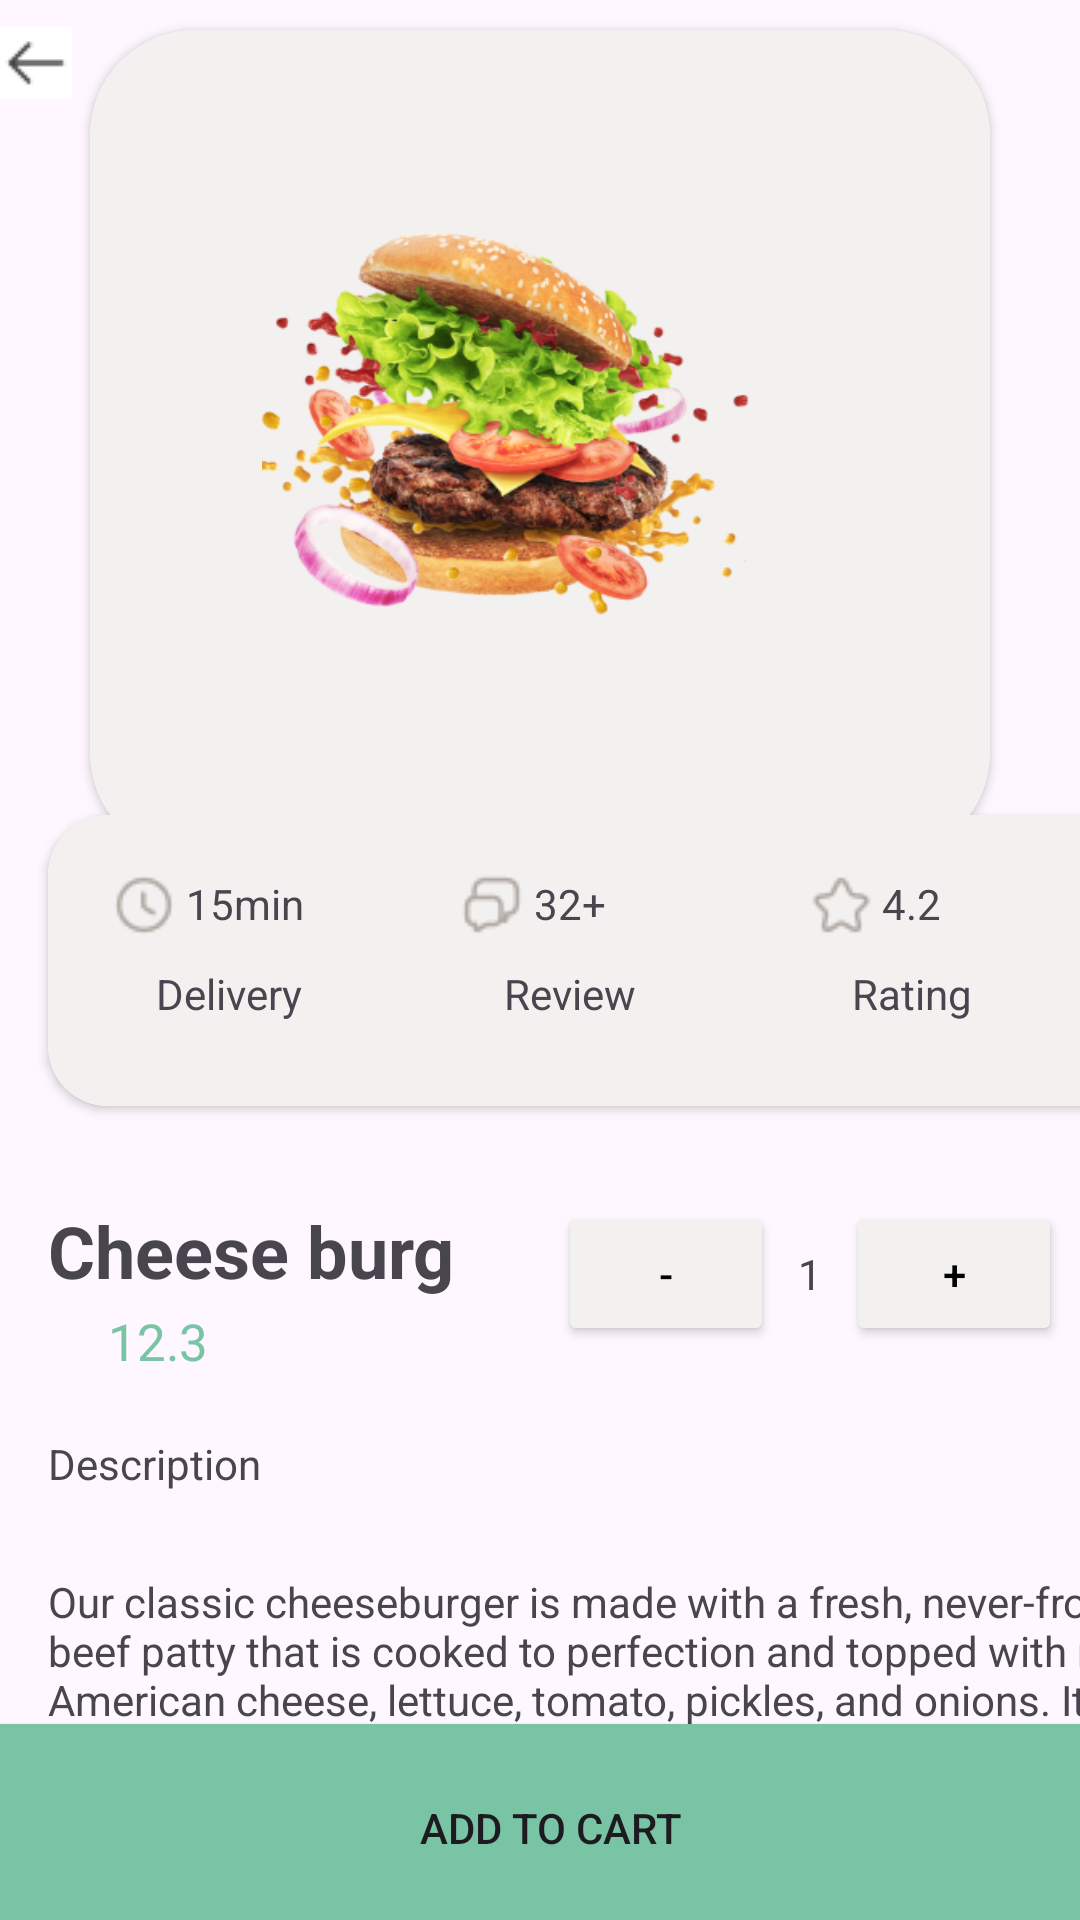

Icons on this 1080×1920 Android screen, each with the point to tap as (x=x, y=y):
back button: (x=36, y=63)
clock: (x=144, y=905)
message: (x=492, y=905)
star: (x=841, y=905)
